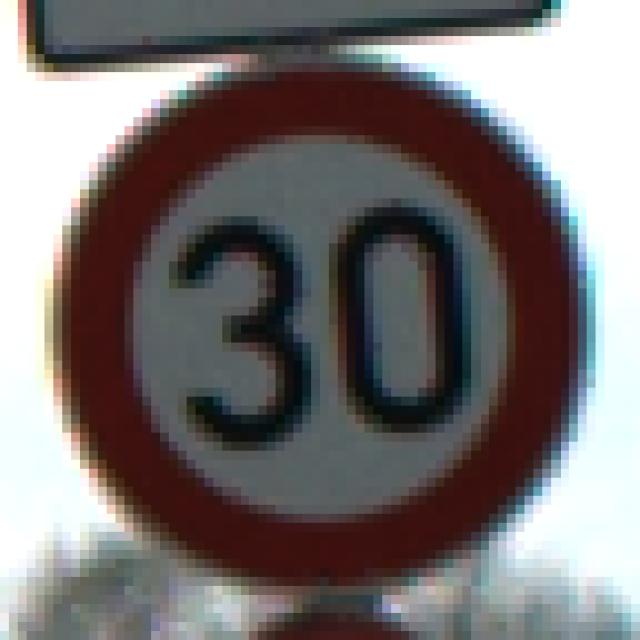Speed Limit -30-: (49, 49, 582, 582)
